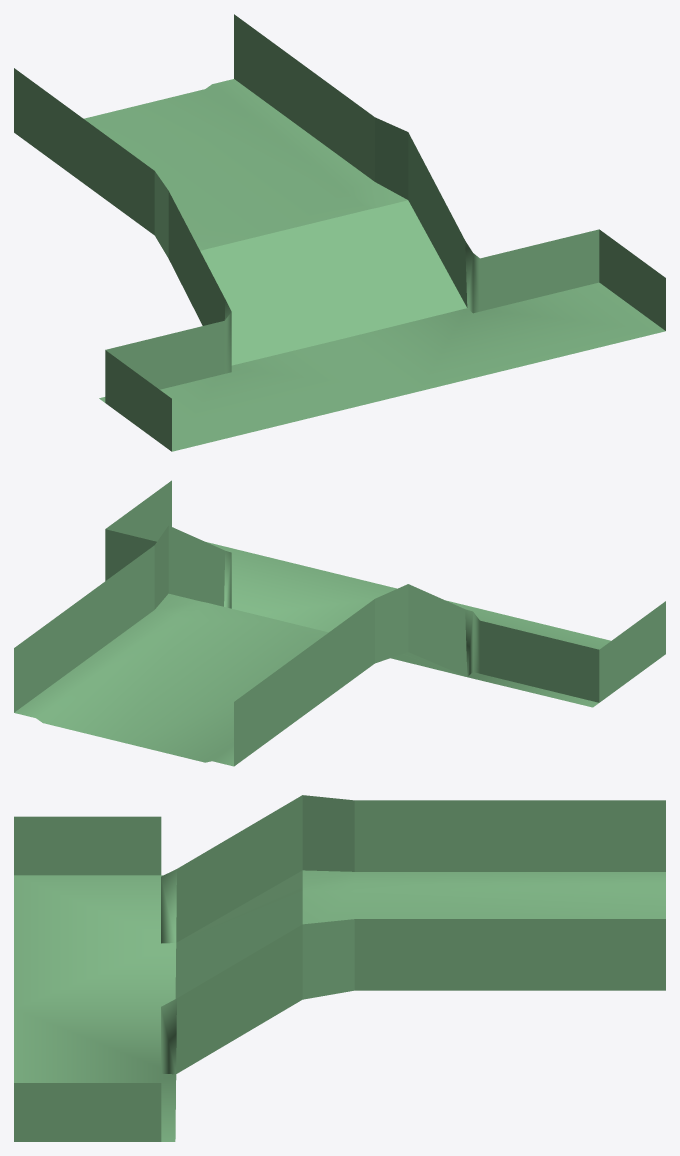
File: Bridge_Entrance_I_16_A_COL.fbx
3 renders of one model, top to bottom at view 1: azimuth 30°, elevation 25°; view 2: azimuth 150°, elevation 25°; view 3: azimuth 270°, elevation 25°, orthographic. The views are drawn at different scales.
Parts seen in each view (by area): view 1: Bridge_Entrance_I_16_A_COL; view 2: Bridge_Entrance_I_16_A_COL; view 3: Bridge_Entrance_I_16_A_COL.
Part boxes in pixels (x1,y1,x2,y2): Bridge_Entrance_I_16_A_COL: (14, 14, 665, 451); Bridge_Entrance_I_16_A_COL: (14, 480, 665, 766); Bridge_Entrance_I_16_A_COL: (14, 795, 665, 1141).
Size of the model in its own units: 1548 by 403 by 1600.
